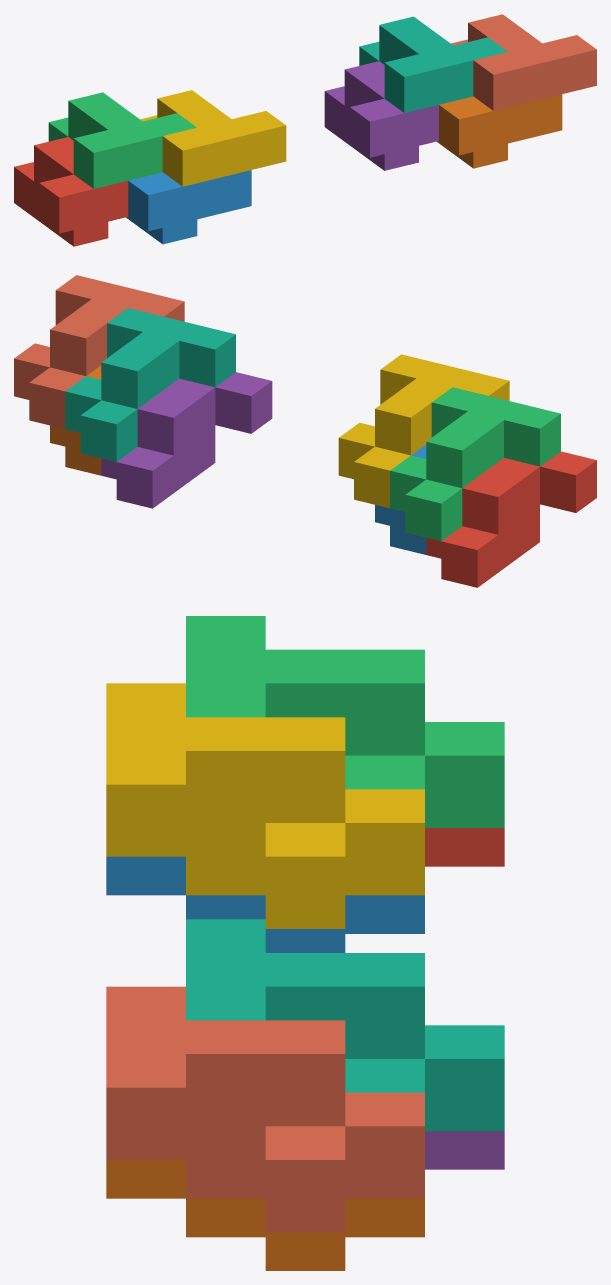
File: tiling.obj
3 views of the same model, one above another, from view 1: azimuth 30°, elevation 25°; view 2: azimuth 150°, elevation 25°; view 3: azimuth 270°, elevation 25° (orthographic). The views are drawn at different scales.
Parts seen in each view (by area): view 1: copy_1_domain_4, copy_1_domain_8, copy_1_domain_3, copy_1_domain_7, copy_1_domain_5, copy_1_domain_1, copy_1_domain_2, copy_1_domain_6; view 2: copy_1_domain_3, copy_1_domain_7, copy_1_domain_5, copy_1_domain_1, copy_1_domain_8, copy_1_domain_4, copy_1_domain_2, copy_1_domain_6; view 3: copy_1_domain_8, copy_1_domain_4, copy_1_domain_3, copy_1_domain_7, copy_1_domain_6, copy_1_domain_2, copy_1_domain_1, copy_1_domain_5.
Boxes of the visible parts, x1,y1,x2,y2 form: copy_1_domain_4: [140, 90, 286, 186]; copy_1_domain_8: [451, 14, 596, 110]; copy_1_domain_3: [48, 92, 196, 188]; copy_1_domain_7: [359, 16, 507, 113]; copy_1_domain_5: [324, 61, 438, 170]; copy_1_domain_1: [14, 137, 128, 246]; copy_1_domain_2: [126, 170, 251, 244]; copy_1_domain_6: [436, 94, 562, 168]; copy_1_domain_3: [390, 387, 560, 541]; copy_1_domain_7: [65, 308, 235, 461]; copy_1_domain_5: [101, 372, 272, 508]; copy_1_domain_1: [426, 451, 596, 587]; copy_1_domain_8: [14, 275, 184, 428]; copy_1_domain_4: [338, 354, 509, 508]; copy_1_domain_2: [375, 444, 426, 554]; copy_1_domain_6: [50, 365, 101, 475]; copy_1_domain_8: [106, 986, 424, 1232]; copy_1_domain_4: [106, 683, 424, 928]; copy_1_domain_3: [186, 616, 504, 827]; copy_1_domain_7: [186, 919, 504, 1131]; copy_1_domain_6: [106, 1160, 424, 1270]; copy_1_domain_2: [106, 856, 424, 952]; copy_1_domain_1: [425, 828, 504, 866]; copy_1_domain_5: [425, 1131, 504, 1169].
Size of the model in its own units: 15 by 3 by 5.
